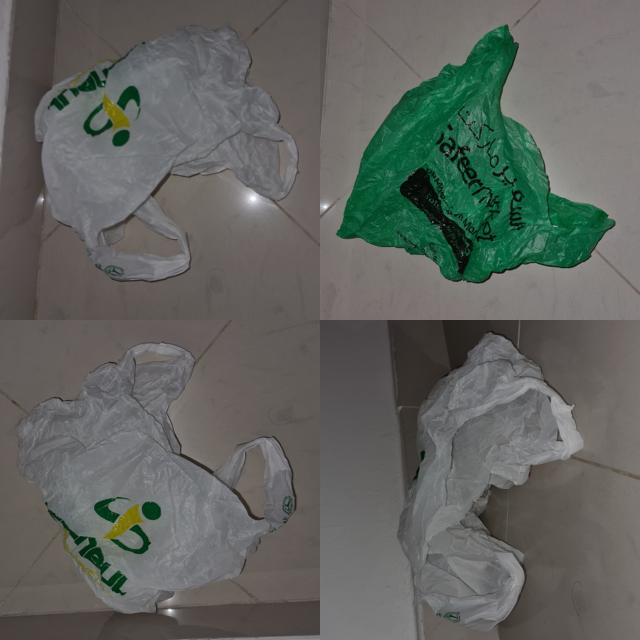Single-layer Plastic: (18, 342, 295, 614), (338, 25, 615, 282), (35, 26, 298, 281), (398, 334, 582, 631)
